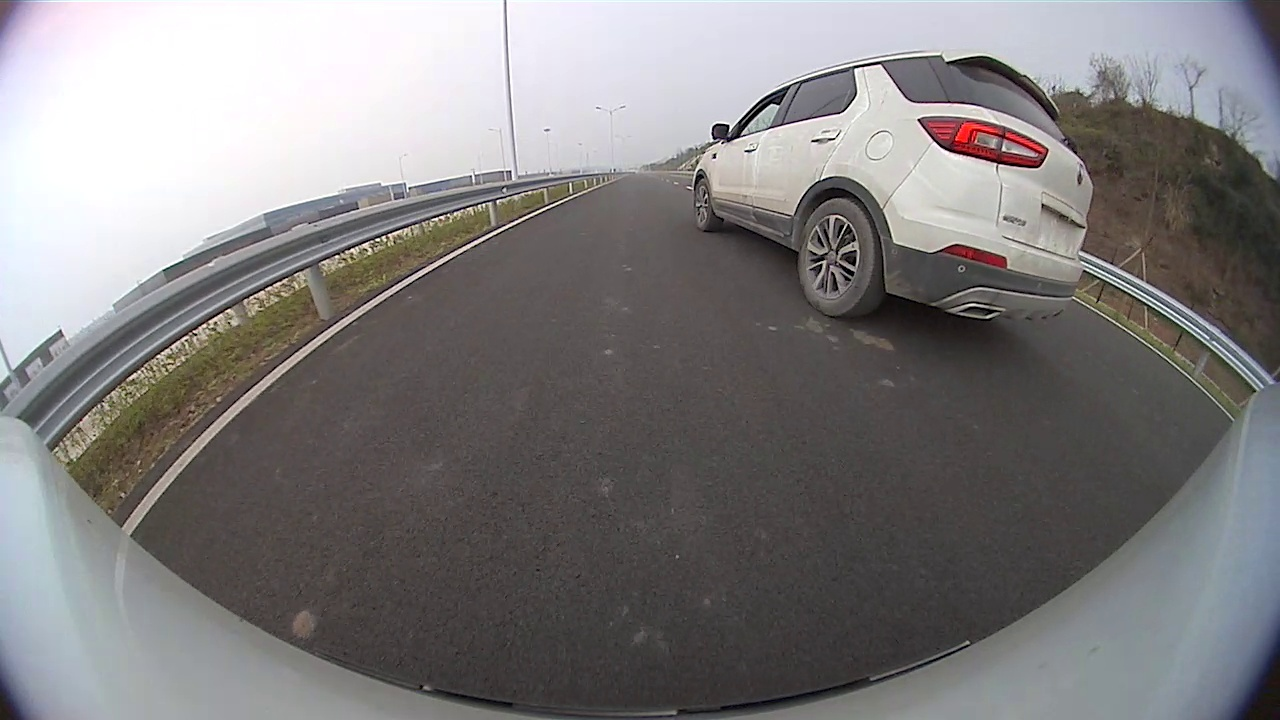car: (686, 47, 1093, 324)
front: (690, 174, 716, 235)
rear: (795, 195, 883, 317)
